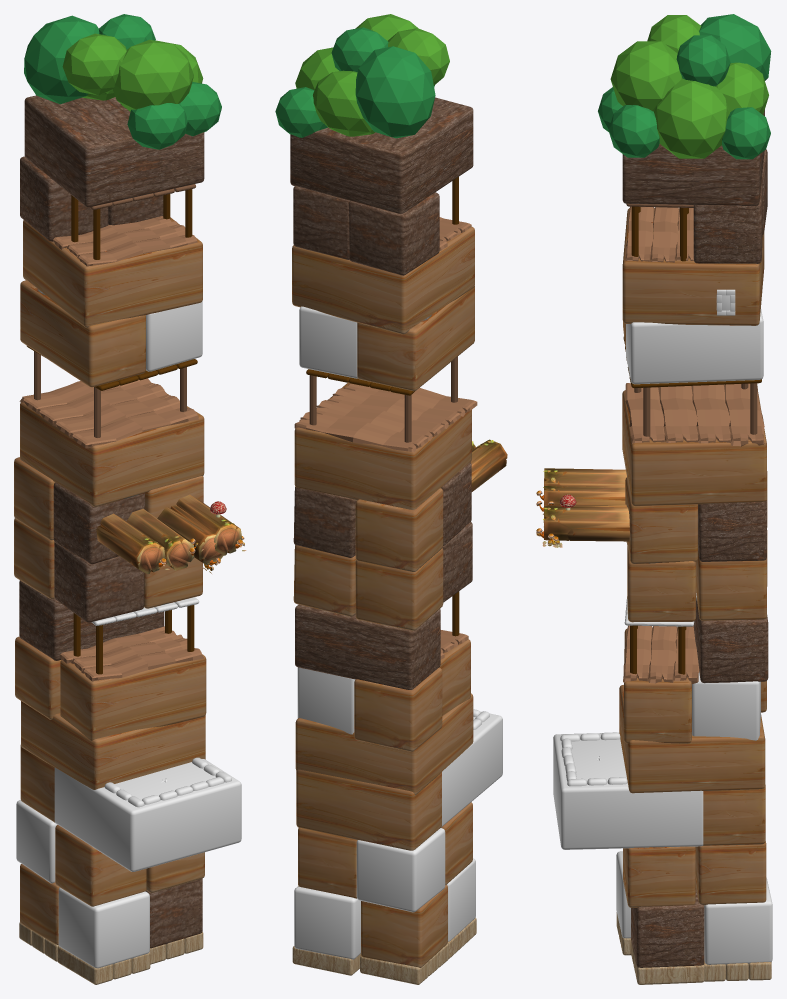
File: SeitenwandRechts.fbx
3 renders of one model, left to right at view 1: azimuth 30°, elevation 25°; view 2: azimuth 150°, elevation 25°; view 3: azimuth 270°, elevation 25°, orthographic.
Parts seen in each view (by area): view 1: Cube.102, Cube.111, Cube.097, Cube.089, Cube.112, Cube.072, Cube.095, Cube.062, Cube.082, Cube.080, Icosphere.005, Cube.099 (+37 smaller); view 2: Cube.111, Cube.097, Cube.089, Cube.080, Cube.103, Cube.112, Cube.095, Icosphere.010, Cube.110, Cube.101, Cube.088, Cube.074 (+28 smaller); view 3: Cube.102, Cube.089, Cube.097, Cube.096, Cube.112, Cube.111, Icosphere.007, Cube.080, Cube.069, Cube.098, Cube.071, Cube.072 (+33 smaller).
Part boxes in pixels (<box>): Cube.102: <box>54,759,241,871</box>; Cube.111: <box>24,95,204,207</box>; Cube.097: <box>23,217,202,327</box>; Cube.089: <box>20,394,204,506</box>; Cube.112: <box>21,701,205,789</box>; Cube.072: <box>60,635,206,740</box>; Cube.095: <box>20,280,145,387</box>; Cube.062: <box>58,887,149,968</box>; Cube.082: <box>54,542,144,622</box>; Cube.080: <box>19,580,164,660</box>; Icosphere.005: <box>112,39,193,111</box>; Cube.099: <box>55,825,146,906</box>; Cube.111: <box>290,97,473,213</box>; Cube.097: <box>292,227,474,334</box>; Cube.089: <box>294,382,471,509</box>; Cube.080: <box>295,604,440,689</box>; Cube.103: <box>296,769,441,850</box>; Cube.112: <box>295,693,473,794</box>; Cube.095: <box>357,286,474,391</box>; Icosphere.010: <box>355,46,435,138</box>; Cube.110: <box>349,192,439,275</box>; Cube.101: <box>356,828,445,912</box>; Cube.088: <box>355,488,443,571</box>; Cube.074: <box>354,667,442,751</box>; Cube.102: <box>553,733,703,849</box>; Cube.089: <box>622,390,766,506</box>; Cube.097: <box>622,208,764,325</box>; Cube.096: <box>626,309,763,384</box>; Cube.112: <box>619,685,765,793</box>; Cube.111: <box>622,109,764,205</box>; Icosphere.007: <box>654,78,729,158</box>; Cube.080: <box>693,597,768,683</box>; Cube.069: <box>631,887,704,967</box>; Cube.098: <box>623,846,695,907</box>; Cube.071: <box>704,877,772,964</box>; Cube.072: <box>624,628,691,743</box>.
Size of the model in its own units: 8.98 by 53.07 by 12.27.
